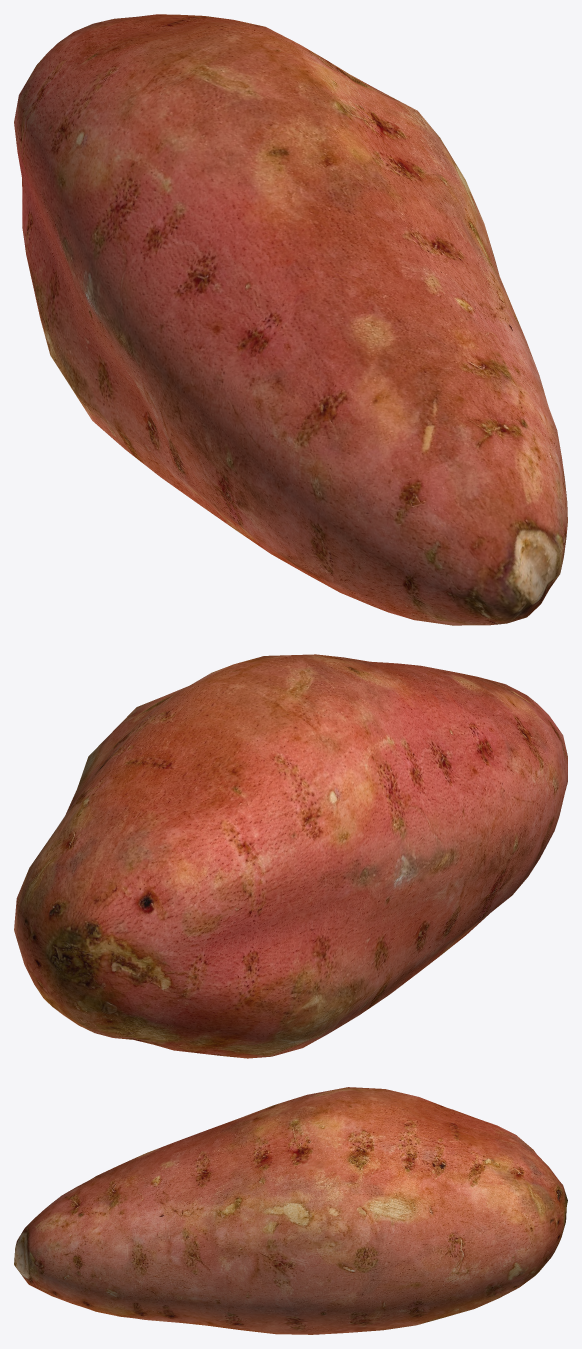
File: sweetPotato_2.fbx
The picture shows the model from 3 angles, top to bottom: view 1: azimuth 30°, elevation 25°; view 2: azimuth 150°, elevation 25°; view 3: azimuth 270°, elevation 25°; orthographic projection. The views are drawn at different scales.
Parts seen in each view (by area): view 1: Sweet Potato; view 2: Sweet Potato; view 3: Sweet Potato.
Boxes of the visible parts, x1,y1,x2,y2 form: Sweet Potato: (14,14,567,625); Sweet Potato: (14,654,567,1058); Sweet Potato: (14,1087,567,1334).
Size of the model in its own units: 5.28 by 5.6 by 12.53.
Materials: 1 (1 with a texture image).
